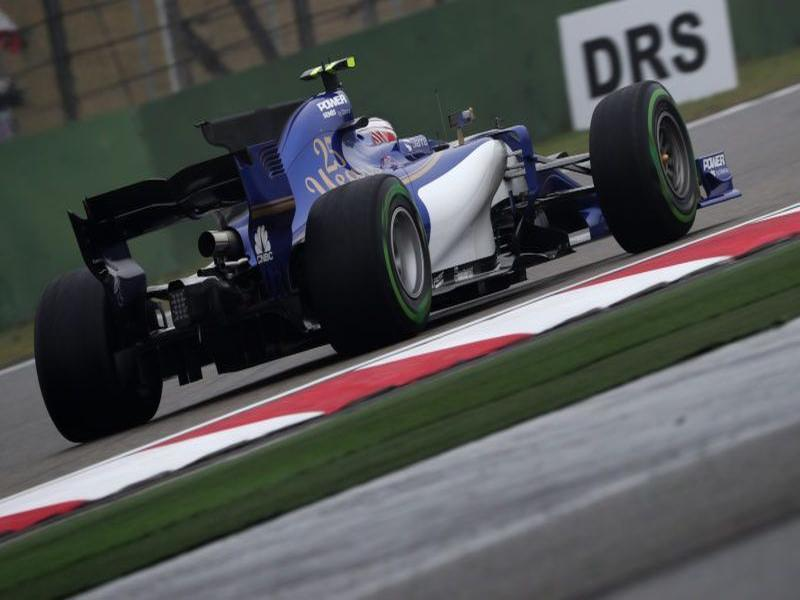f1: (36, 68, 762, 373)
